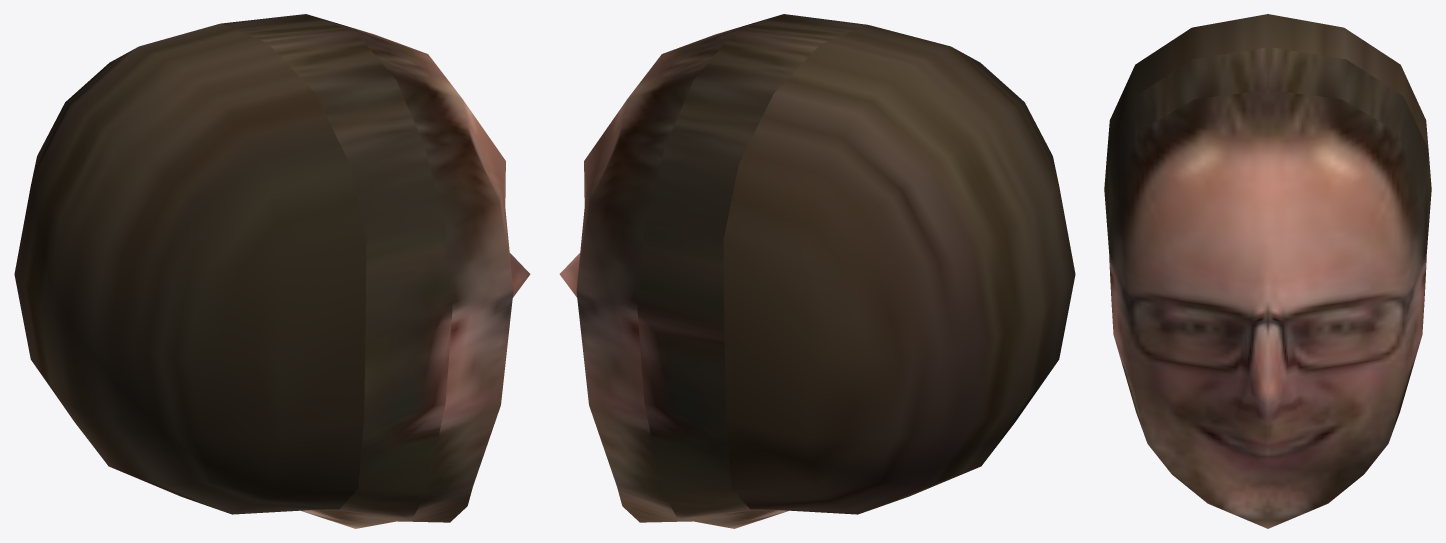
File: spyke.fbx
3 views of the same model, side by side, from view 1: azimuth 30°, elevation 25°; view 2: azimuth 150°, elevation 25°; view 3: azimuth 270°, elevation 25° (orthographic). The views are drawn at different scales.
Parts seen in each view (by area): view 1: Cube; view 2: Cube; view 3: Cube.
Part boxes in pixels (<box>): Cube: <box>14,14,530,528</box>; Cube: <box>559,14,1075,528</box>; Cube: <box>1104,14,1431,528</box>.
Bounding box in the file's own units: 184 × 186 × 132.
